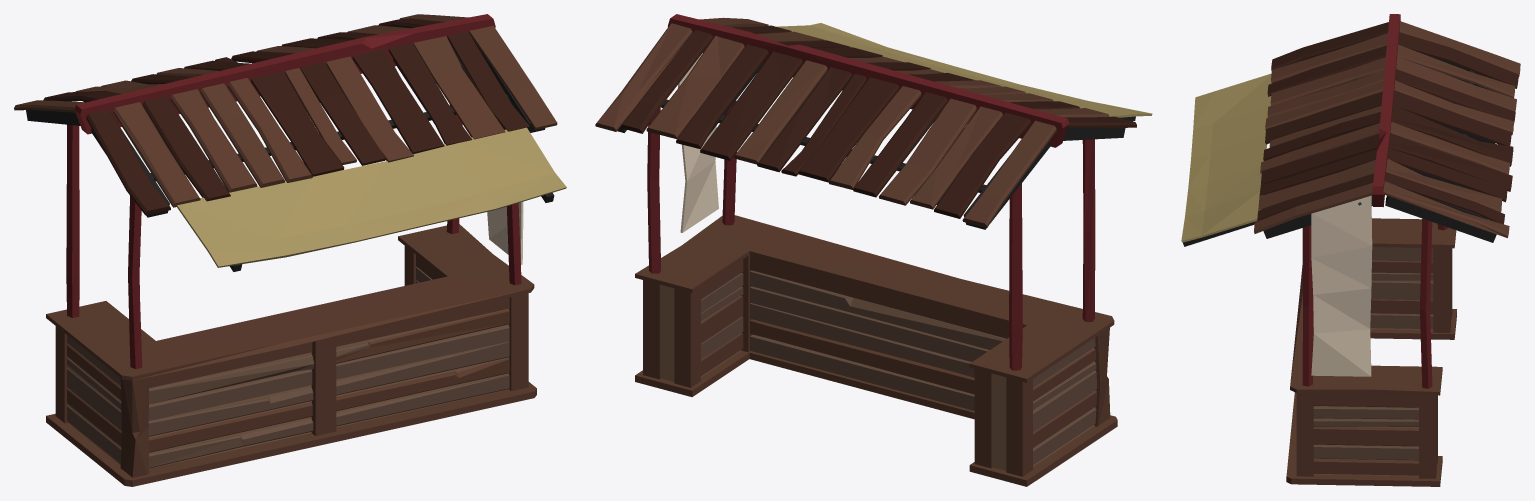
File: Stall_2 Asia.fbx
3 renders of one model, left to right at view 1: azimuth 30°, elevation 25°; view 2: azimuth 150°, elevation 25°; view 3: azimuth 270°, elevation 25°, orthographic. The views are drawn at different scales.
Parts seen in each view (by area): view 1: Stall_2; view 2: Stall_2; view 3: Stall_2.
Part boxes in pixels (<box>): Stall_2: <box>14,14,566,486</box>; Stall_2: <box>595,14,1152,486</box>; Stall_2: <box>1181,14,1520,486</box>.
Size of the model in its own units: 2.48 by 1.99 by 2.02.
